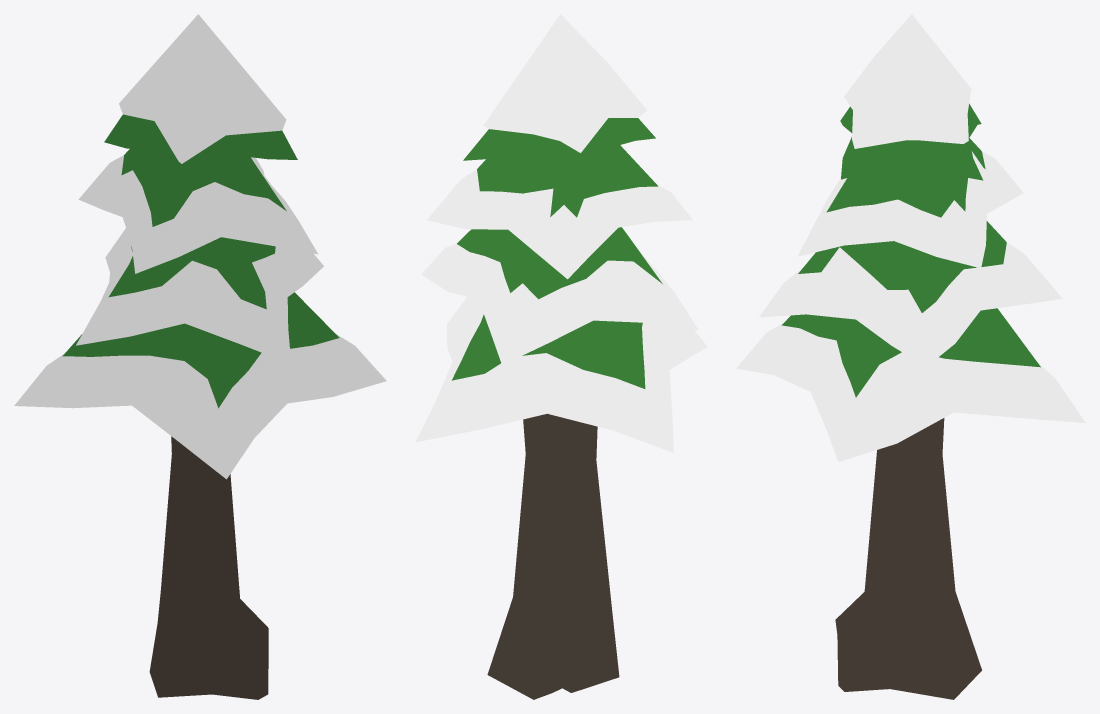
File: pine_medium_snowy_01.dae
3 views of the same model, side by side, from view 1: azimuth 30°, elevation 25°; view 2: azimuth 150°, elevation 25°; view 3: azimuth 270°, elevation 25° (orthographic).
Visible parts, largest first — view 1: pine_medium_snowy_01-0; view 2: pine_medium_snowy_01-0; view 3: pine_medium_snowy_01-0.
Boxes of the visible parts, <box> form: pine_medium_snowy_01-0: <box>14,14,386,699</box>; pine_medium_snowy_01-0: <box>416,14,707,699</box>; pine_medium_snowy_01-0: <box>736,14,1085,699</box>.
Size of the model in its own units: 4.84 by 10.22 by 4.9.
